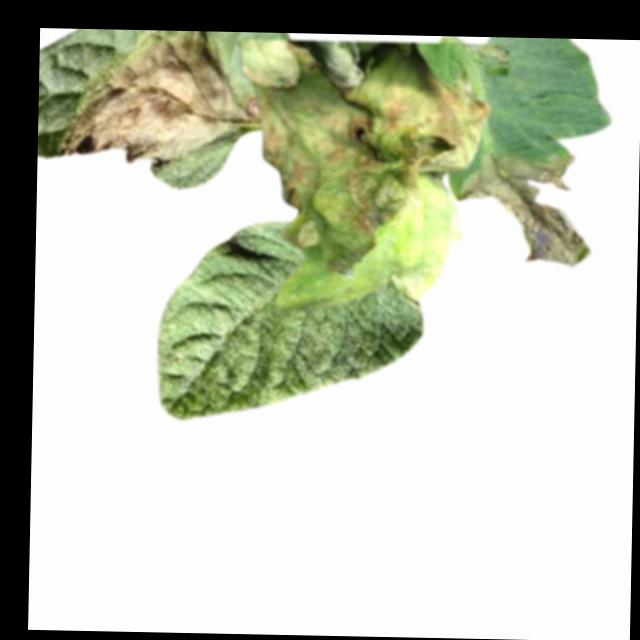Late_blight: (233, 36, 508, 280), (56, 29, 240, 170), (458, 151, 595, 272)
